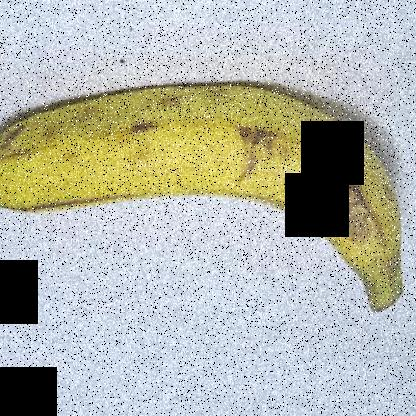ripe: (0, 73, 415, 334)
